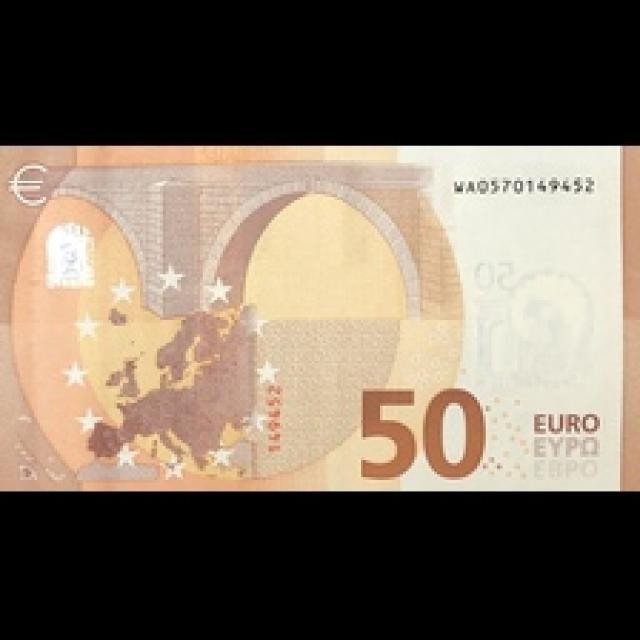banknote: (0, 143, 637, 491), (336, 369, 503, 489)
